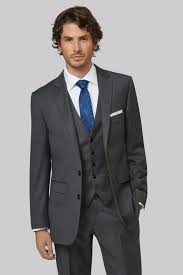F_M_suit jacket: (17, 62, 156, 237)
F_shirt: (60, 66, 103, 128)
F_tie: (71, 78, 99, 130)
